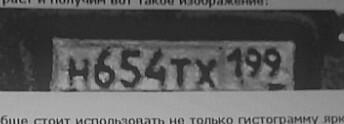license-plateSW: (53, 37, 297, 94)
